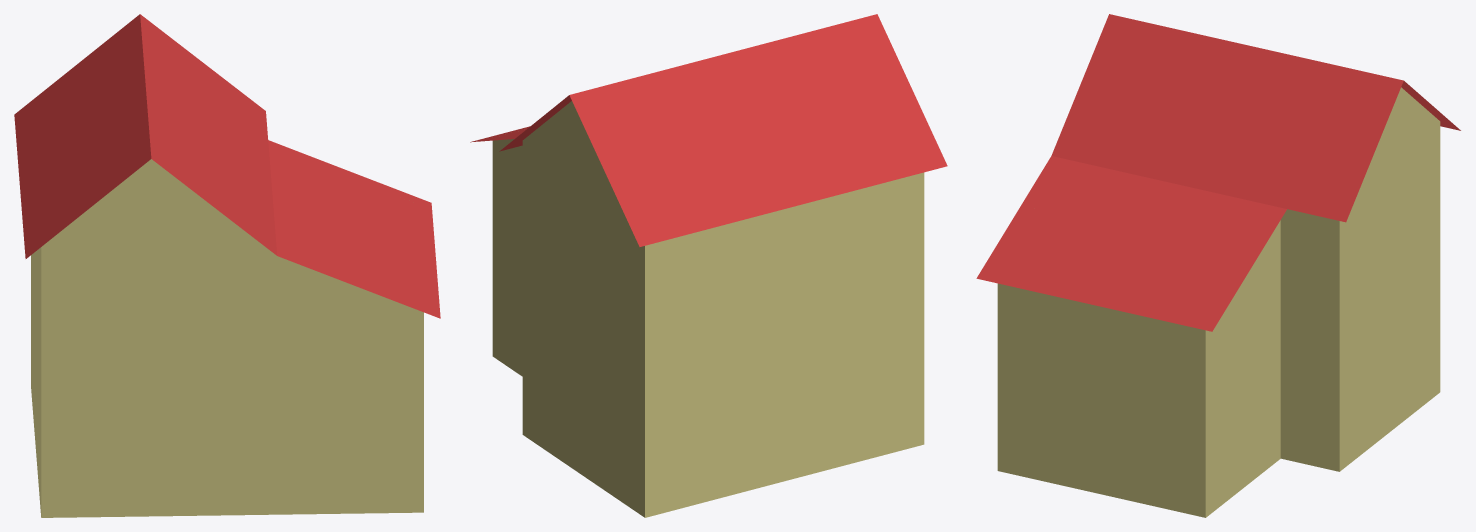
3 views of the same model, side by side, from view 1: azimuth 30°, elevation 25°; view 2: azimuth 150°, elevation 25°; view 3: azimuth 270°, elevation 25° (orthographic). The views are drawn at different scales.
Bounding box in the file's own units: 15.36 × 15.44 × 12.45.
